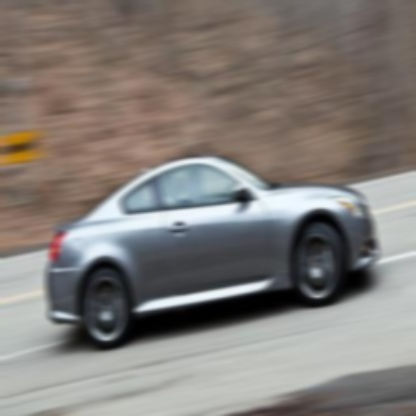Vehicle: (45, 153, 379, 348)
